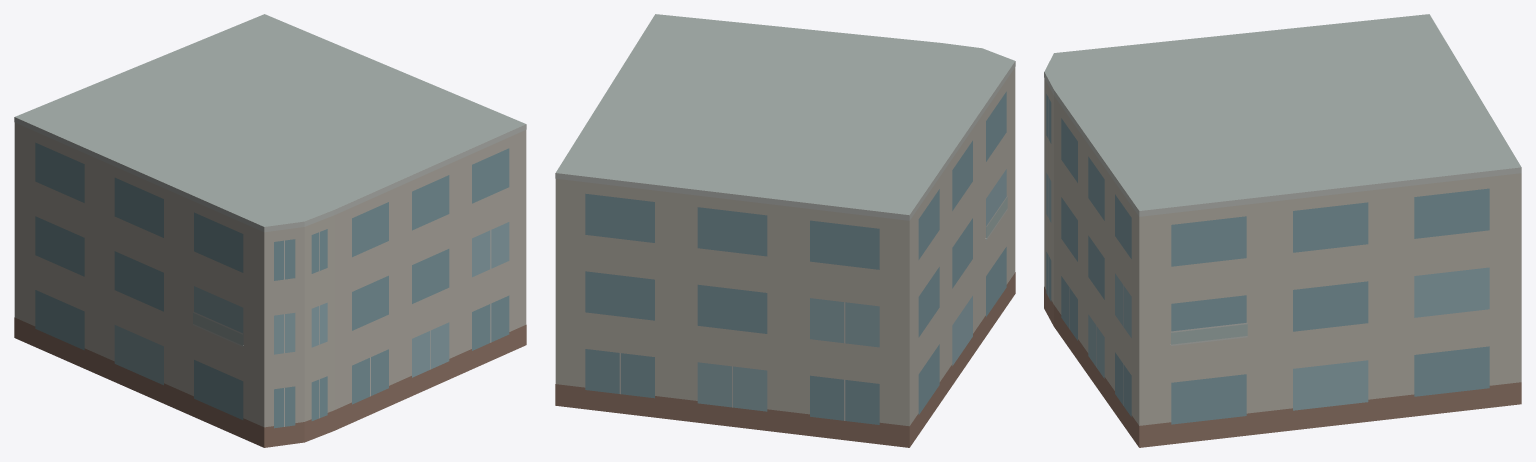
File: survey-upis-32468559.glb
3 views of the same model, side by side, from view 1: azimuth 30°, elevation 25°; view 2: azimuth 150°, elevation 25°; view 3: azimuth 270°, elevation 25° (orthographic). The views are drawn at different scales.
Visible parts, largest first — view 1: survey-upis-32468559.tmp; view 2: survey-upis-32468559.tmp; view 3: survey-upis-32468559.tmp.
Part boxes in pixels (bbox=[...]): survey-upis-32468559.tmp: bbox=[14, 14, 526, 447]; survey-upis-32468559.tmp: bbox=[555, 14, 1015, 447]; survey-upis-32468559.tmp: bbox=[1044, 14, 1521, 447].
Size of the model in its own units: 17.86 by 10 by 18.28.
